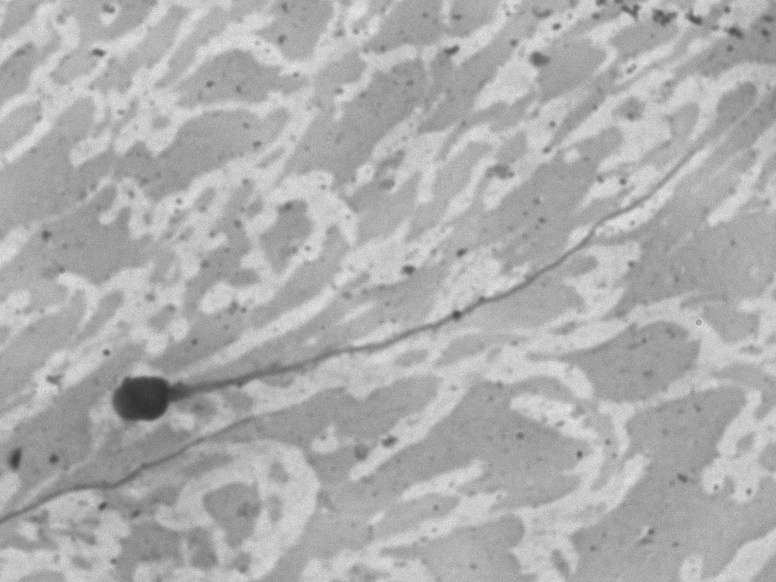Abnormal: (98, 113, 748, 445)
